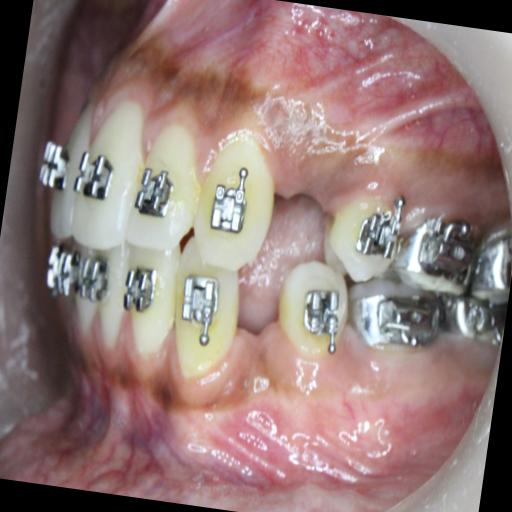correct_brace: (318, 170, 406, 292), (131, 160, 178, 228), (206, 176, 254, 238), (70, 142, 117, 204)
incorrect_brace: (126, 117, 204, 258), (354, 202, 405, 264)
